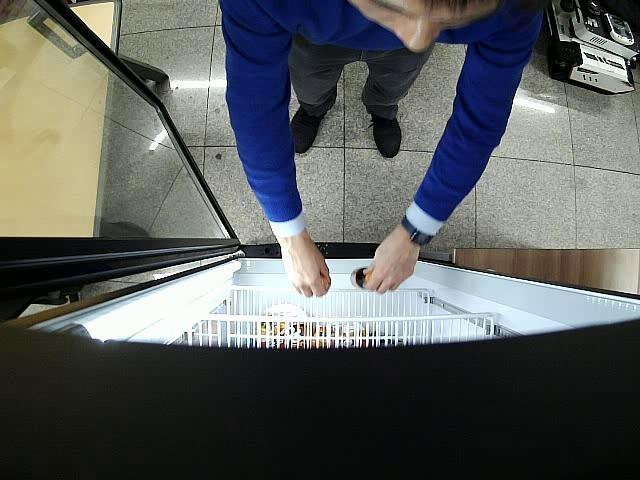17_vita500: (350, 267, 371, 290), (318, 275, 331, 290)
